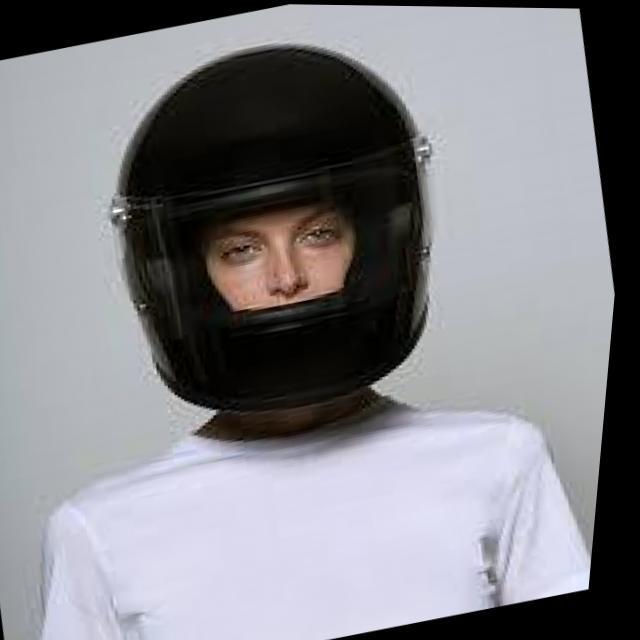Helmet: (104, 40, 441, 415)
